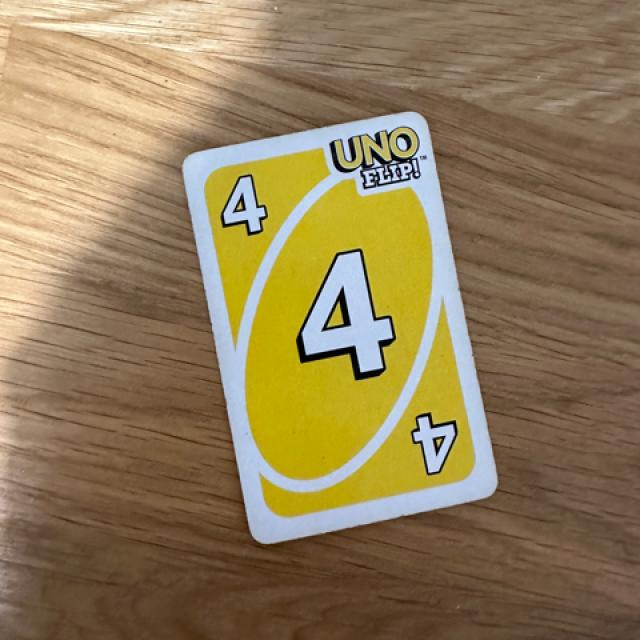lyellow-4: (200, 161, 285, 248)
